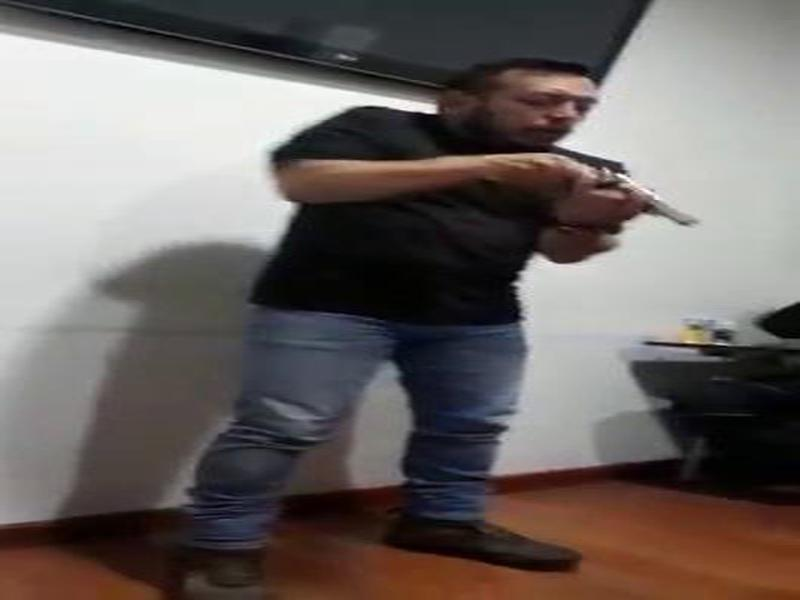Revolver: (548, 148, 708, 253)
